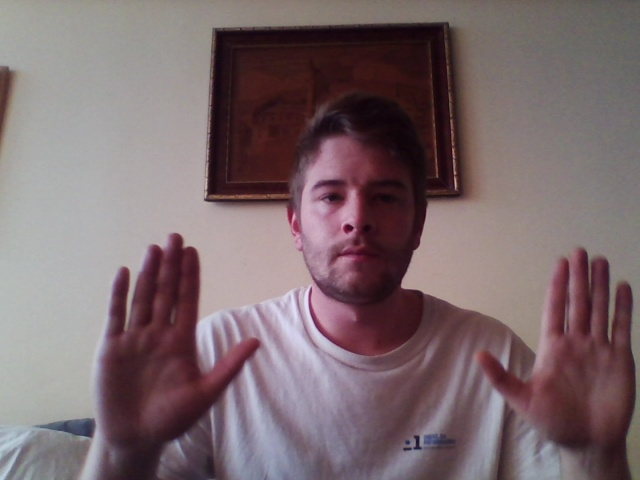prekrasno: (91, 230, 635, 449)
